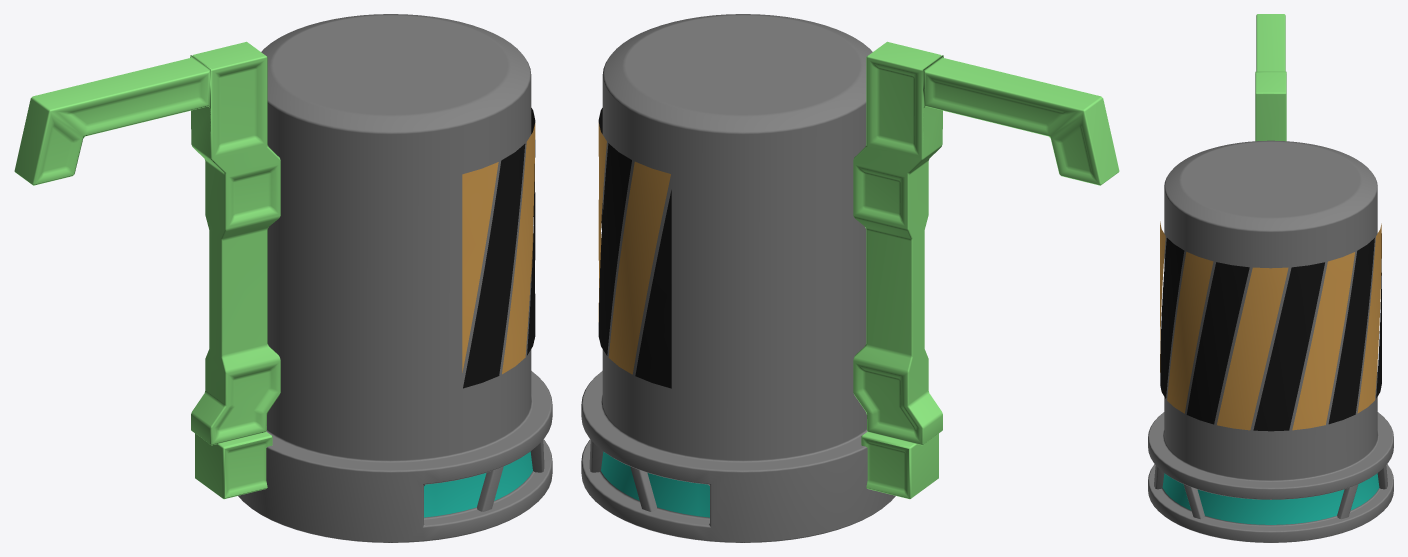
The model's file is SM_PaintMachine.fbx.
3 views of the same model, side by side, from view 1: azimuth 30°, elevation 25°; view 2: azimuth 150°, elevation 25°; view 3: azimuth 270°, elevation 25° (orthographic). The views are drawn at different scales.
Visible parts, largest first — view 1: Cylinder001; view 2: Cylinder001; view 3: Cylinder001.
Boxes of the visible parts, x1=… form: Cylinder001: x1=14, y1=14, x2=552, y2=542; Cylinder001: x1=581, y1=14, x2=1119, y2=542; Cylinder001: x1=1148, y1=14, x2=1393, y2=542.
Bounding box in the file's own units: 301 × 261 × 166.
